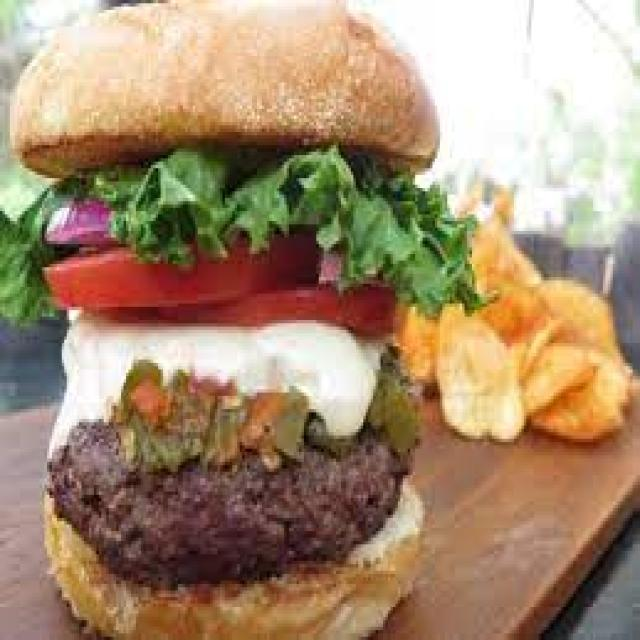Burger: (29, 12, 447, 640)
